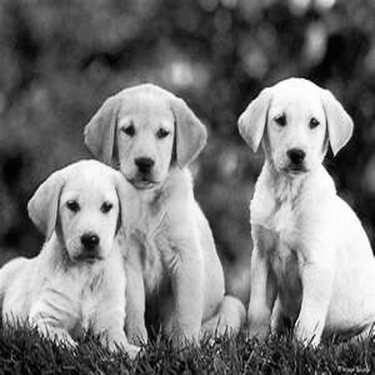dog: (73, 79, 253, 359), (228, 53, 370, 360), (1, 152, 149, 370)
